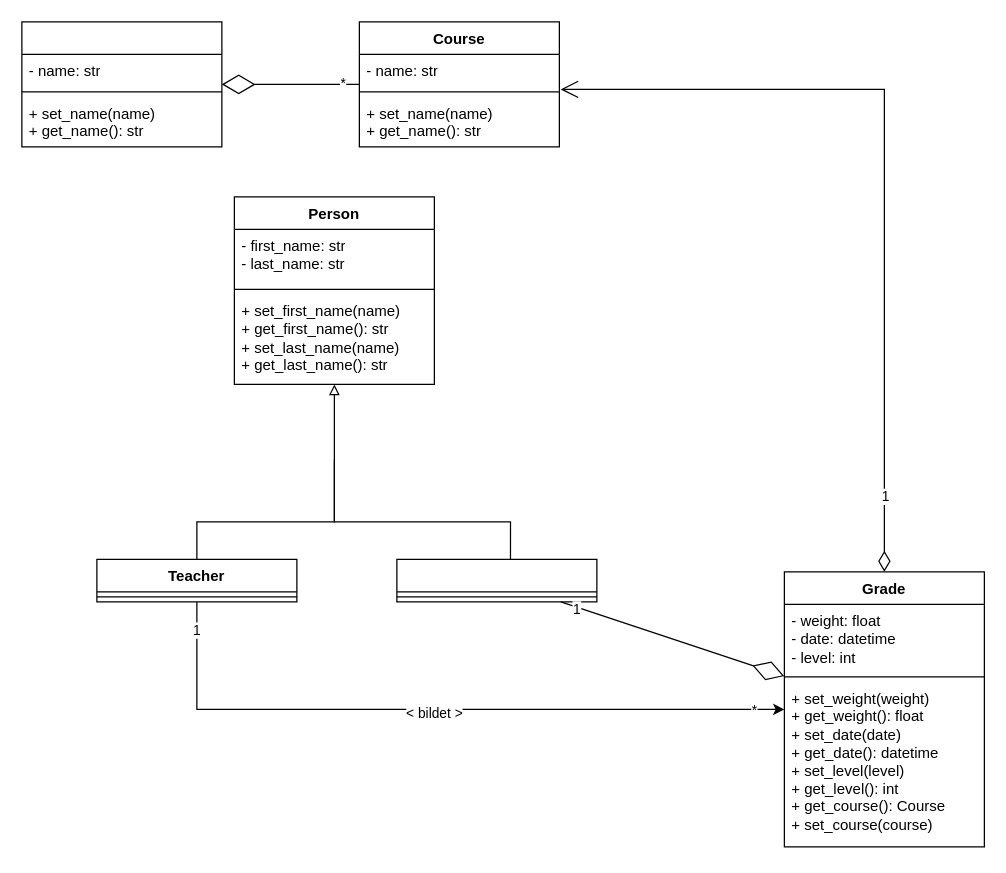
Some shapes in this 1006 by 873 pixel diagram are drawn without their labels. Each missing label, with the box of its shape:
Klasse: (21, 21, 222, 147)
Student: (396, 558, 597, 602)
